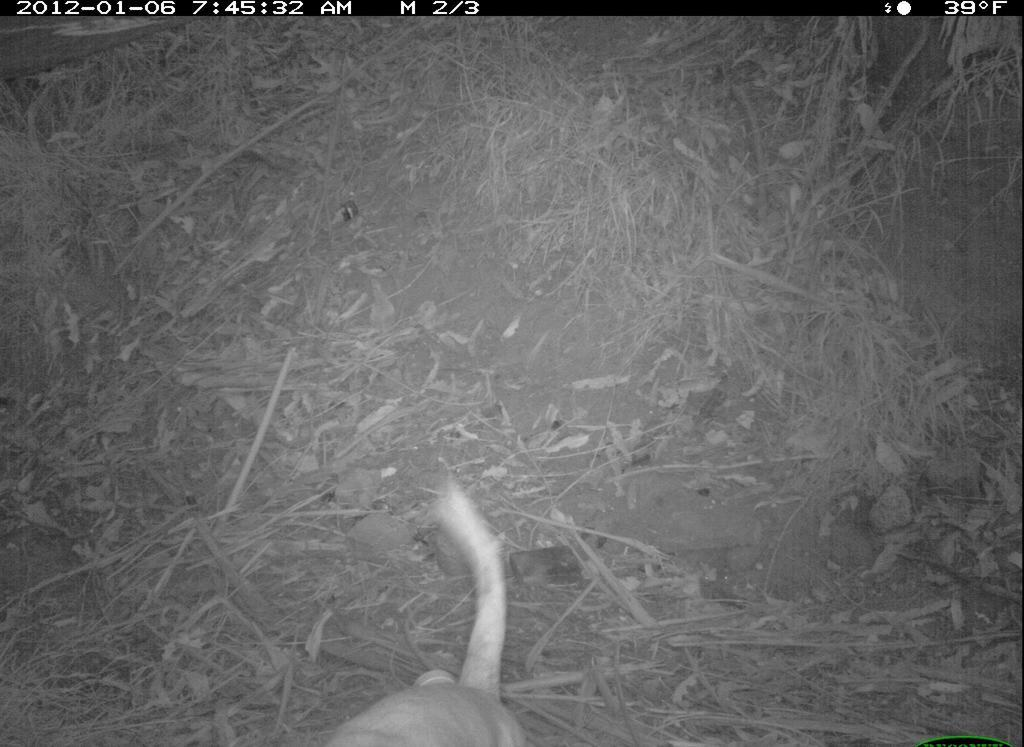dog: (326, 477, 533, 747)
